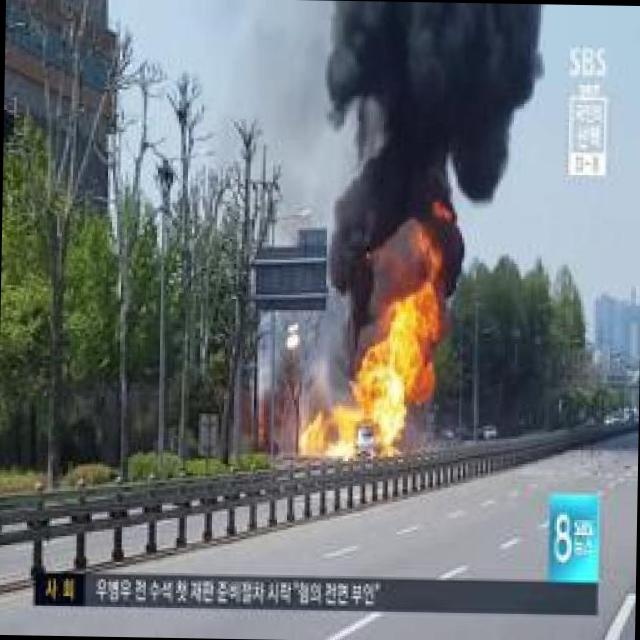Fire: (287, 233, 453, 461)
Smoke: (320, 0, 547, 233)
